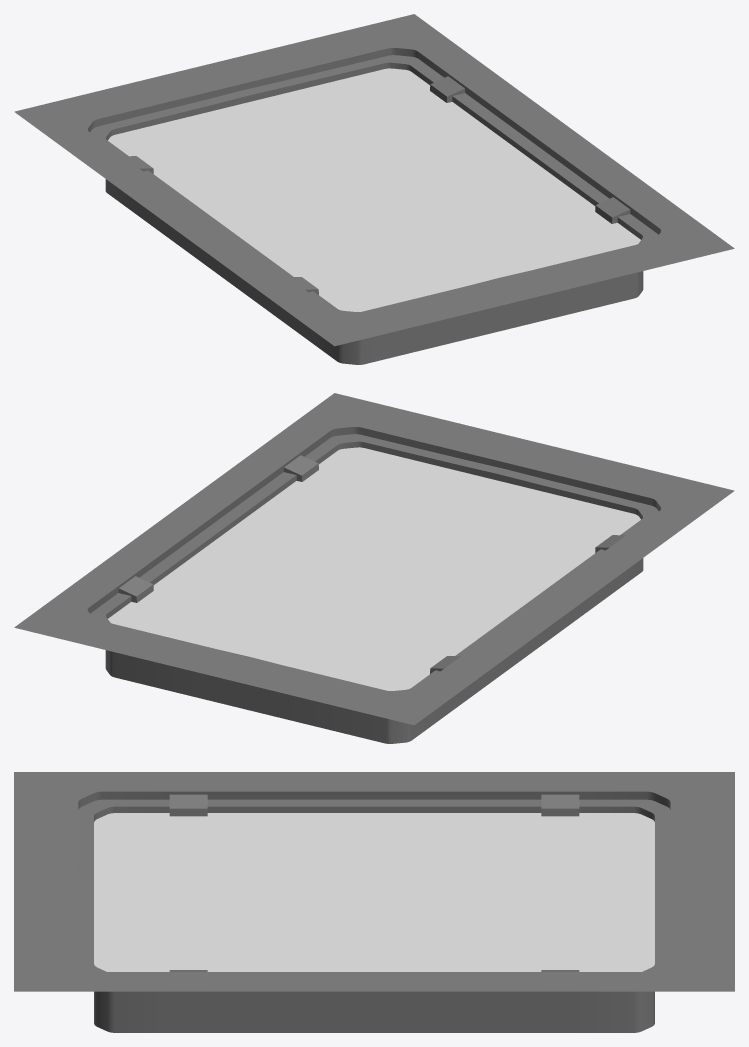
File: q-scifi-mod-platform-window-thin.glb
3 views of the same model, one above another, from view 1: azimuth 30°, elevation 25°; view 2: azimuth 150°, elevation 25°; view 3: azimuth 270°, elevation 25° (orthographic). The views are drawn at different scales.
Visible parts, largest first — view 1: Platform_Window_Thin; view 2: Platform_Window_Thin; view 3: Platform_Window_Thin.
Boxes of the visible parts, box(x1,y1,x2,y2) form: Platform_Window_Thin: box(14, 14, 734, 364); Platform_Window_Thin: box(14, 393, 734, 743); Platform_Window_Thin: box(14, 772, 734, 1032).
Bounding box in the file's own units: 2.88 × 0.4133 × 4.
Materials: 4 (3 with a texture image).
